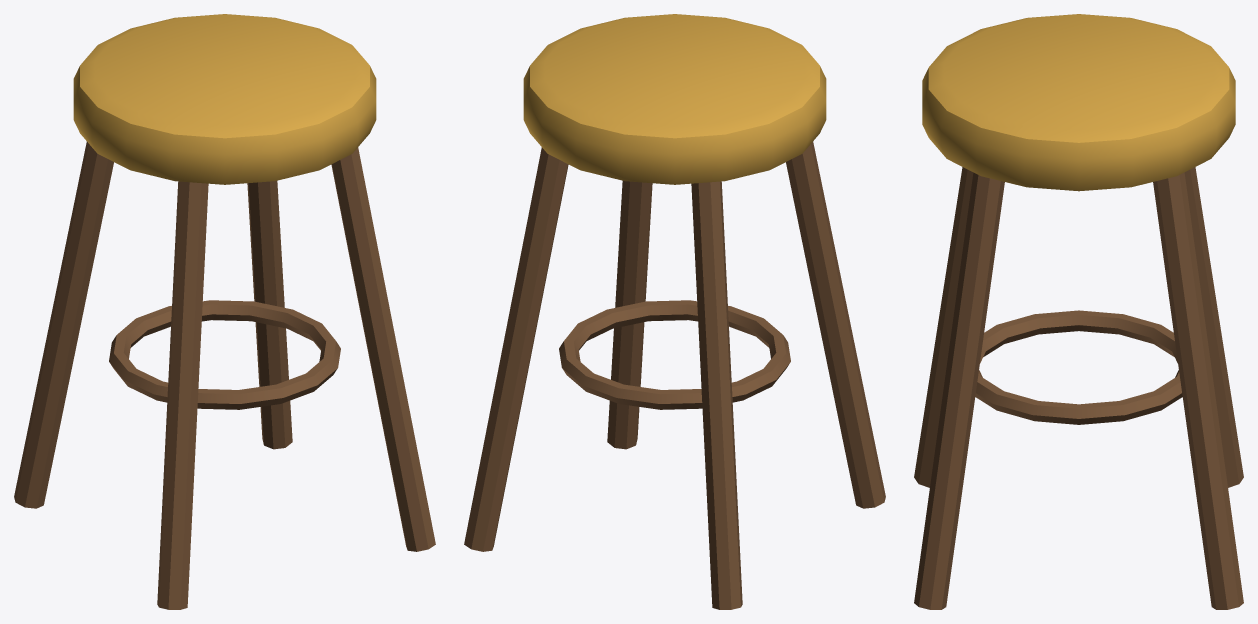
Rendered from stool.glb.
3 views of the same model, side by side, from view 1: azimuth 30°, elevation 25°; view 2: azimuth 150°, elevation 25°; view 3: azimuth 270°, elevation 25° (orthographic). The views are drawn at different scales.
Parts seen in each view (by area): view 1: FURN-stool; view 2: FURN-stool; view 3: FURN-stool.
Boxes of the visible parts, x1=… form: FURN-stool: x1=14, y1=14, x2=435, y2=609; FURN-stool: x1=464, y1=14, x2=885, y2=609; FURN-stool: x1=914, y1=14, x2=1243, y2=609.
Bounding box in the file's own units: 0.4456 × 0.7041 × 0.4456.
